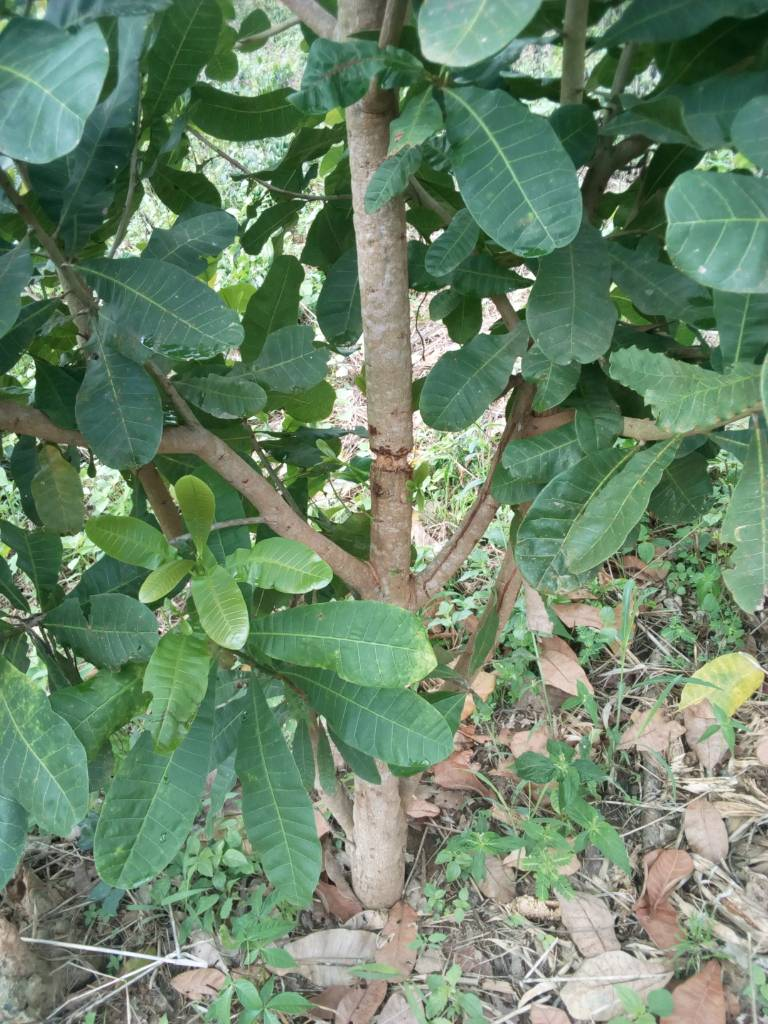Analepse trifasciata: (355, 436, 435, 492)
